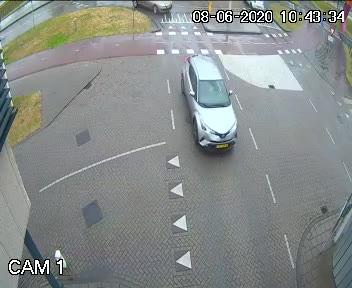car: (168, 38, 246, 177)
